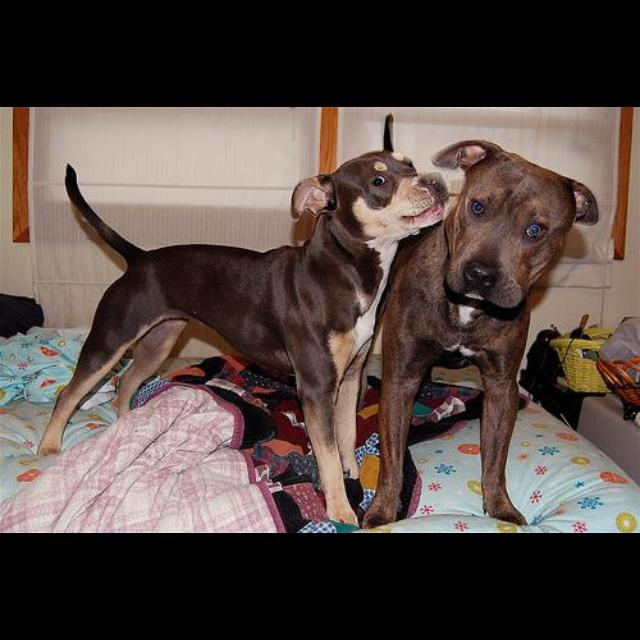amstaff: (36, 151, 448, 528), (361, 139, 599, 529)
